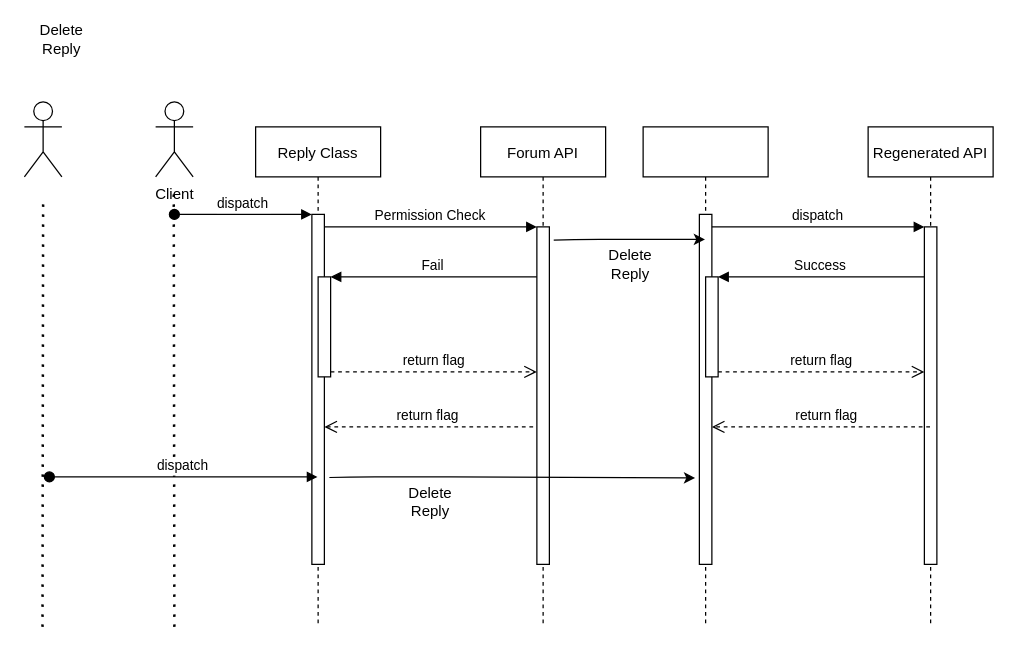
This 1015x651 diagram has some shape labels left out. The centre of each missing label's shape, as x and y in pixels:
Admin: the point at 42,139
Database API: the point at 705,376
